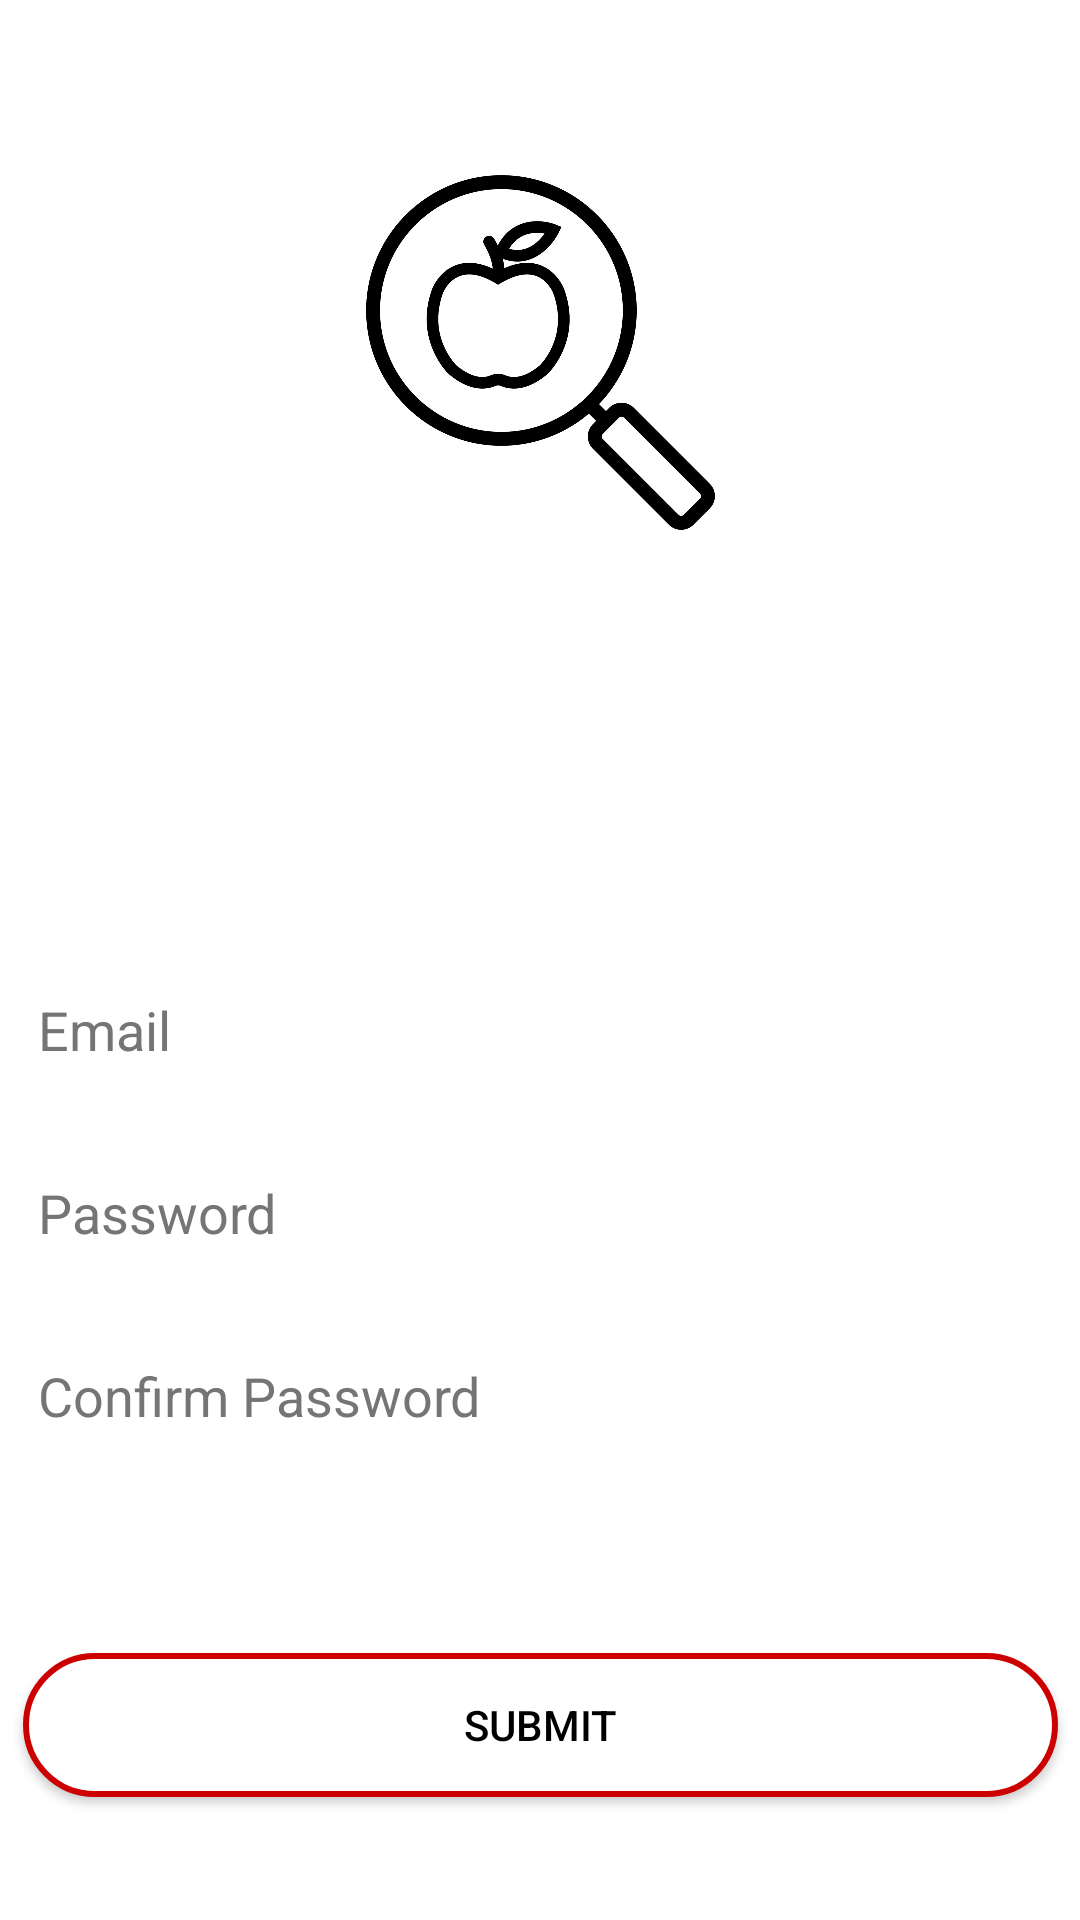

Icon bounding boxes for this 1080w x 1920h phone screenshot, format (x1, y1, x2, y2):
appicon: (366, 175, 715, 530)
